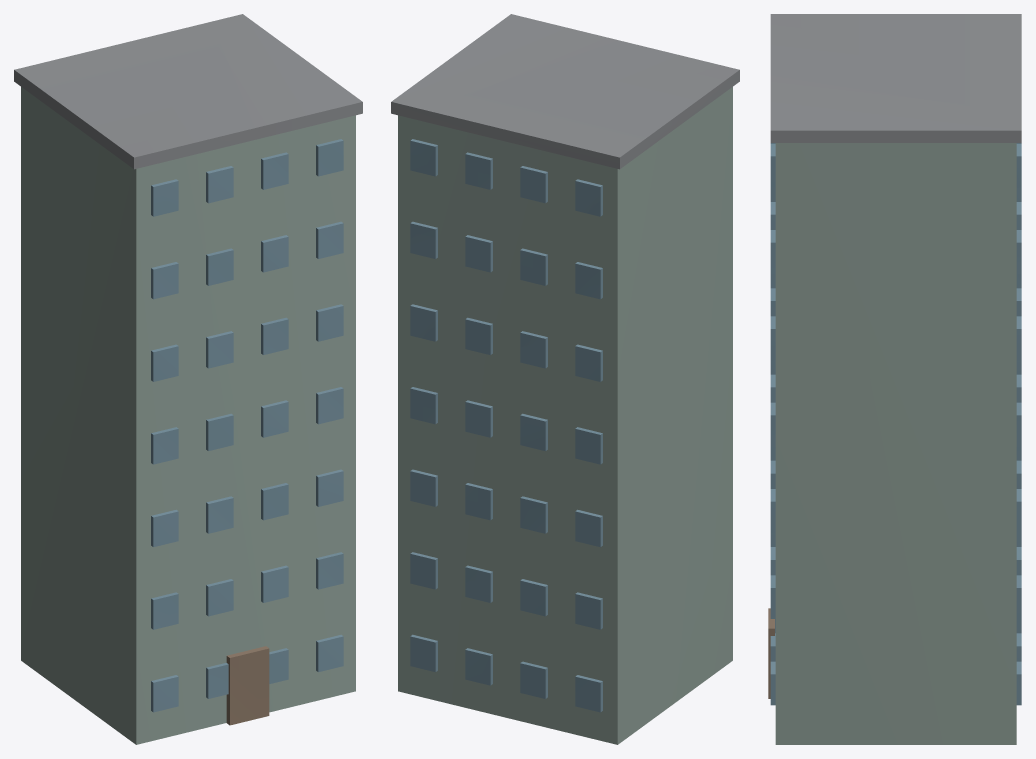
File: apartment-00.glb
The picture shows the model from 3 angles, left to right: view 1: azimuth 30°, elevation 25°; view 2: azimuth 150°, elevation 25°; view 3: azimuth 270°, elevation 25°; orthographic projection. The views are drawn at different scales.
Visible parts, largest first — view 1: world; view 2: world; view 3: world.
Boxes of the visible parts, x1,y1,x2,y2 form: world: (14, 14, 362, 744); world: (391, 14, 739, 744); world: (768, 14, 1021, 744).
Size of the model in its own units: 1.42 by 3.5 by 1.3.
